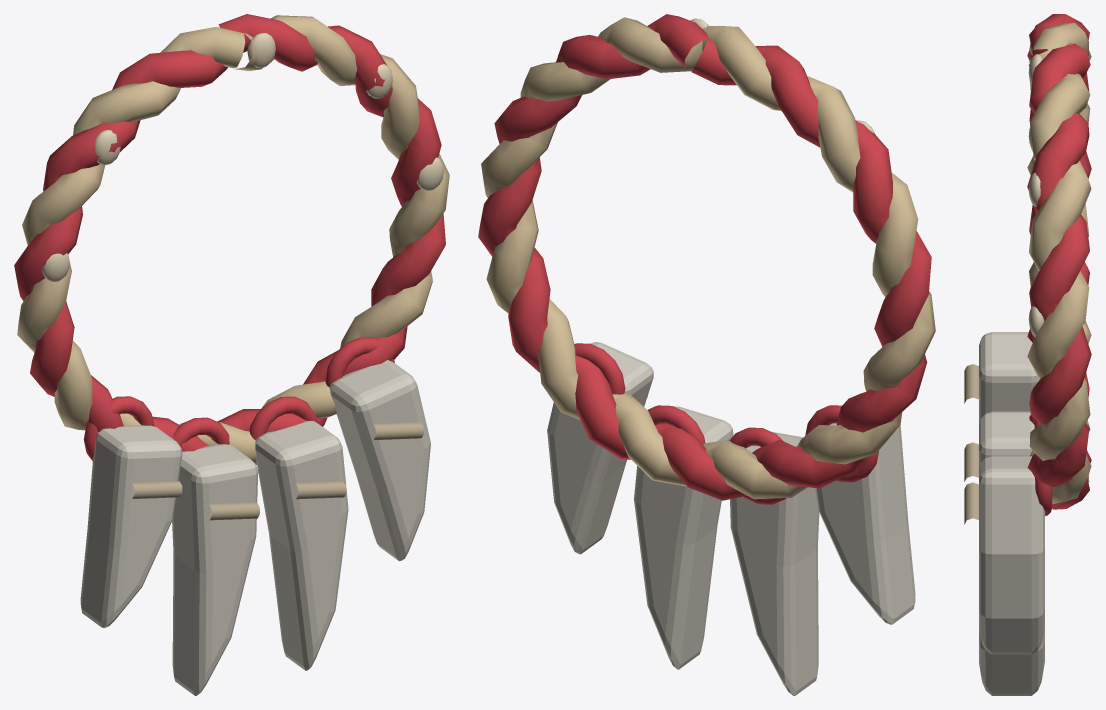
Rendered from toothcharm.glb.
3 renders of one model, left to right at view 1: azimuth 30°, elevation 25°; view 2: azimuth 150°, elevation 25°; view 3: azimuth 270°, elevation 25°, orthographic. The views are drawn at different scales.
Parts seen in each view (by area): view 1: _red-braid, _cream-braid, object 5, object 4, object 3, object 6; view 2: _cream-braid, _red-braid, object 4, object 5, object 3, object 6; view 3: _red-braid, _cream-braid, object 6, object 3, object 4, object 5.
Part boxes in pixels (left/top/right/bottom): _red-braid: left=14, top=14, right=445, bottom=451; _cream-braid: left=17, top=15, right=449, bottom=464; object 5: left=249, top=396, right=348, bottom=670; object 4: left=172, top=417, right=259, bottom=695; object 3: left=80, top=396, right=182, bottom=627; object 6: left=325, top=337, right=430, bottom=561; _cream-braid: left=481, top=17, right=935, bottom=499; _red-braid: left=478, top=14, right=931, bottom=500; object 4: left=730, top=427, right=819, bottom=695; object 5: left=634, top=405, right=733, bottom=669; object 3: left=805, top=405, right=915, bottom=624; object 6: left=547, top=342, right=653, bottom=554; _red-braid: left=1027, top=14, right=1091, bottom=509; _cream-braid: left=1027, top=21, right=1091, bottom=503; object 6: left=964, top=453, right=1052, bottom=654; object 3: left=964, top=332, right=1039, bottom=424; object 4: left=964, top=411, right=1039, bottom=481; object 5: left=964, top=456, right=1051, bottom=695.
Bounding box in the file's own units: 0.6747 × 0.9596 × 0.174.
